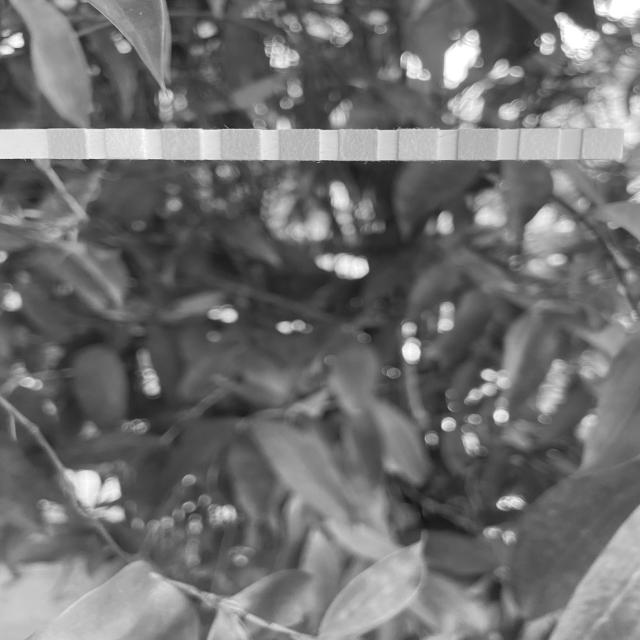Bilirubin: (109, 129, 143, 159)
Blood: (282, 130, 318, 160)
Glucose: (52, 130, 85, 158)
Ketone: (165, 130, 198, 159)
Leukocytes: (584, 130, 621, 159)
Nitrite: (520, 129, 557, 159)
Protein: (401, 130, 437, 160)
SpGravity: (223, 130, 260, 158)
Urobilinogen: (460, 130, 497, 160)
background: (0, 0, 640, 640)
pH: (340, 130, 377, 160)
strip: (1, 129, 623, 160)
